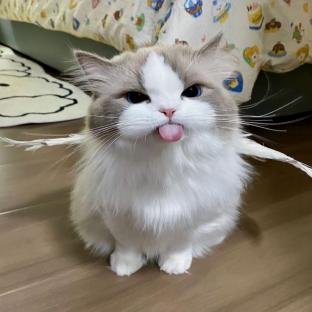Animal: (70, 33, 253, 275)
